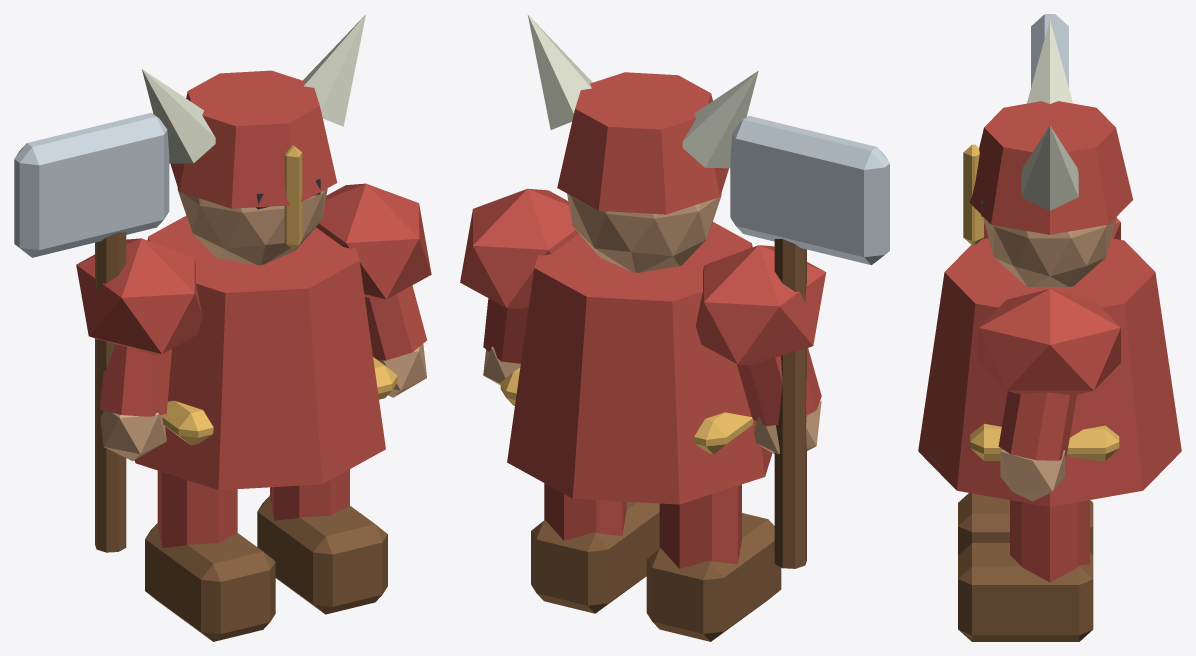
The model's file is warrior.glb.
3 renders of one model, left to right at view 1: azimuth 30°, elevation 25°; view 2: azimuth 150°, elevation 25°; view 3: azimuth 270°, elevation 25°, orthographic. The views are drawn at different scales.
Visible parts, largest first — view 1: warrior; view 2: warrior; view 3: warrior.
Boxes of the visible parts, <box> form: warrior: <box>14,14,431,641</box>; warrior: <box>460,14,889,641</box>; warrior: <box>918,14,1181,641</box>.
Size of the model in its own units: 1.29 by 1.69 by 0.76.
